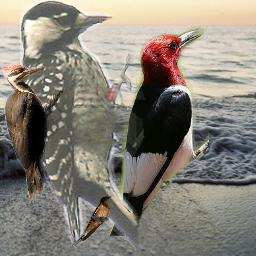Swallow: (74, 195, 112, 245)
Woodpecker: (20, 0, 149, 252), (106, 26, 209, 236), (1, 64, 63, 203)
